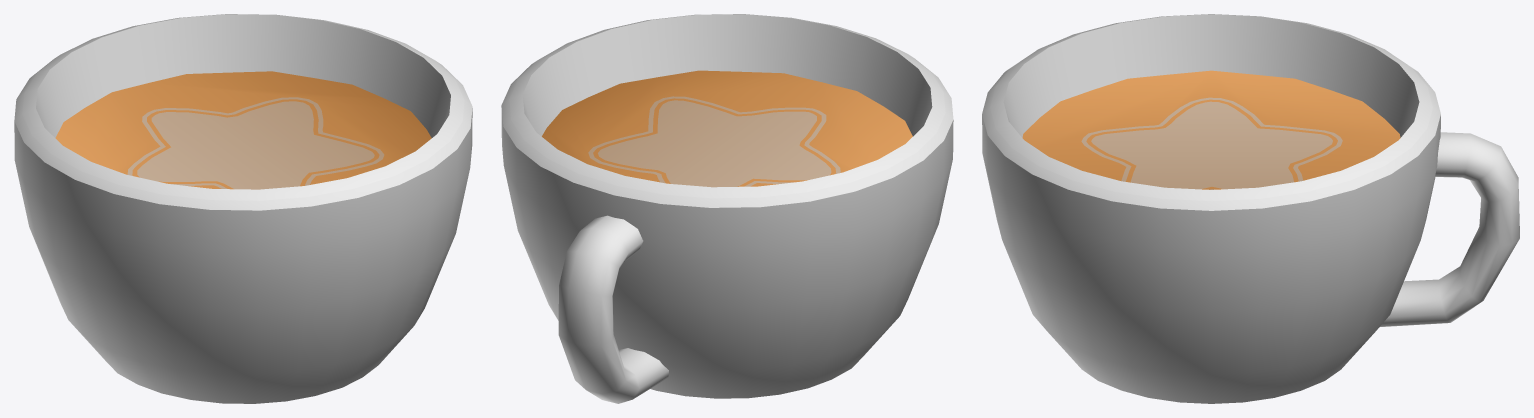
The model's file is Cofe Cup Star_3.fbx.
3 views of the same model, side by side, from view 1: azimuth 30°, elevation 25°; view 2: azimuth 150°, elevation 25°; view 3: azimuth 270°, elevation 25° (orthographic).
Visible parts, largest first — view 1: Cofe Cup Star_3; view 2: Cofe Cup Star_3; view 3: Cofe Cup Star_3.
Boxes of the visible parts, x1,y1,x2,y2 form: Cofe Cup Star_3: [14, 14, 472, 403]; Cofe Cup Star_3: [501, 14, 953, 403]; Cofe Cup Star_3: [982, 14, 1519, 403].
Bounding box in the file's own units: 0.1 × 0.0579 × 0.1172.
